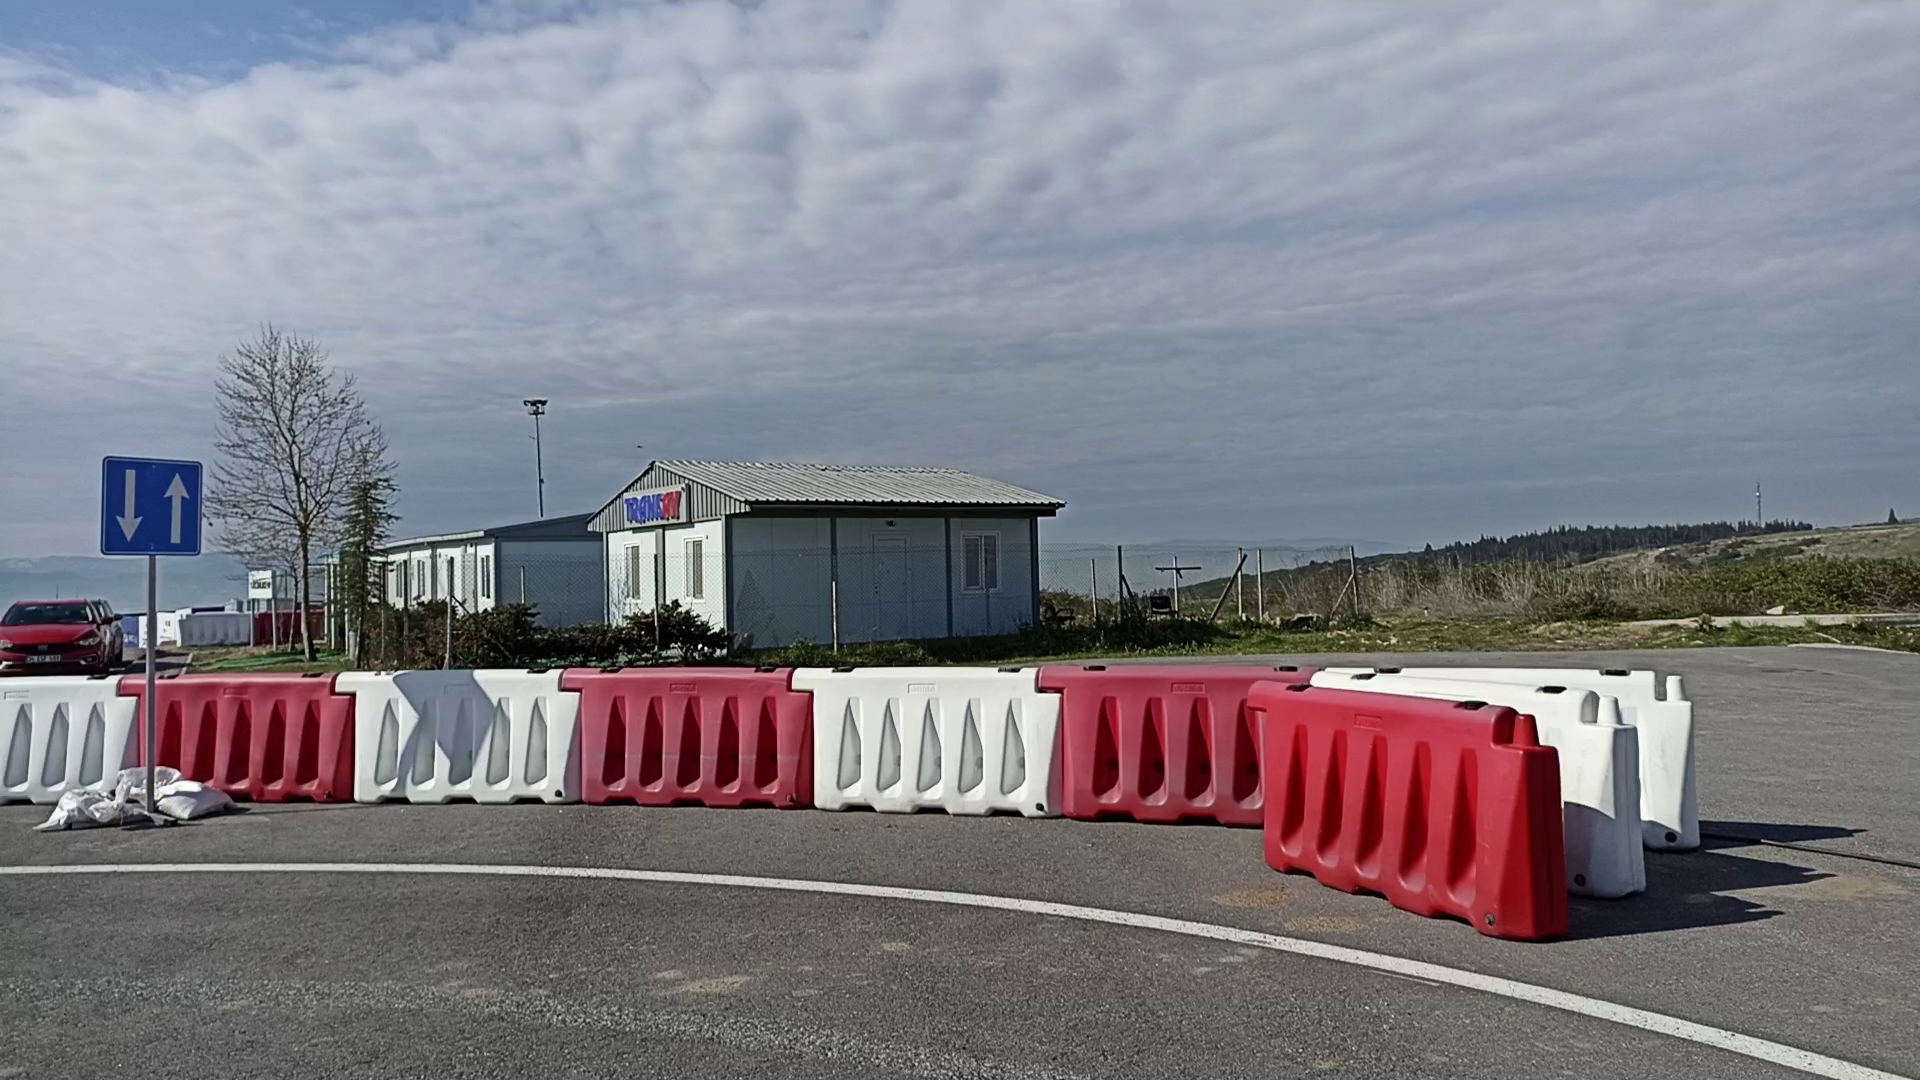oneway: (99, 454, 203, 556)
